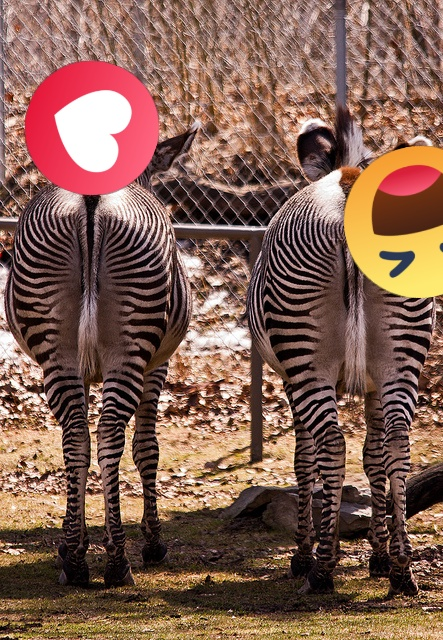haha: (344, 146, 443, 298)
love: (25, 61, 159, 195)
